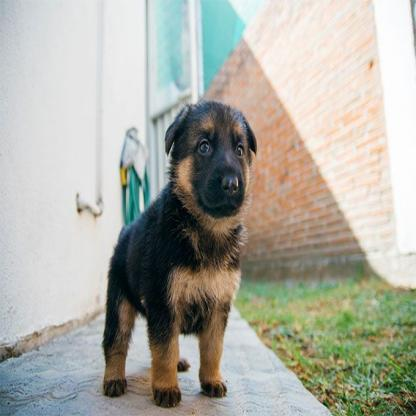dog: (93, 96, 259, 410)
